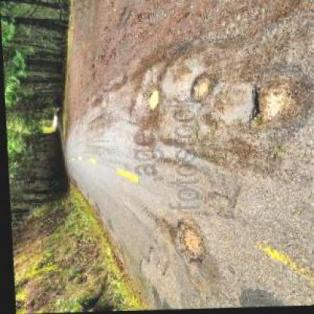Hueco: (246, 82, 292, 129), (170, 219, 204, 266), (186, 74, 218, 104), (145, 88, 161, 111)
